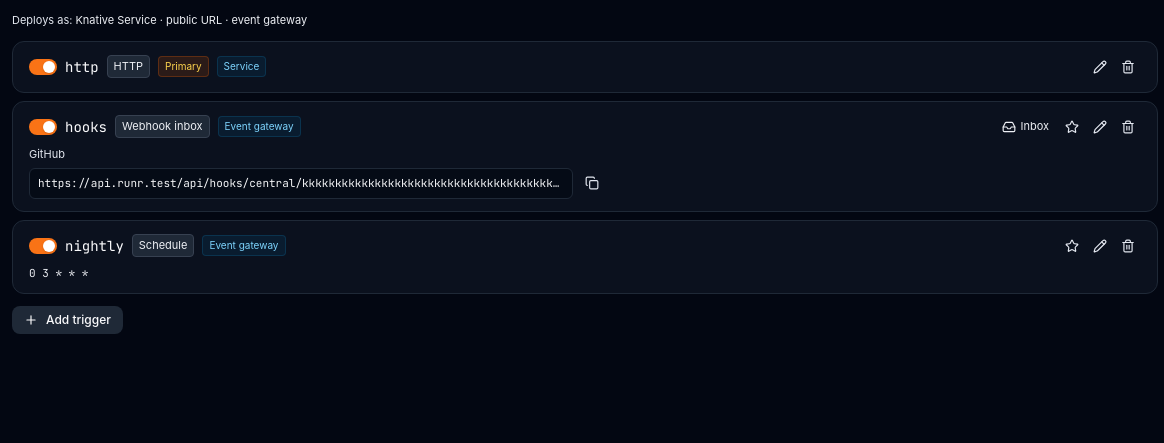
Test: TriggerList › says which replication slots RunR drops when a removal left some
Click the button named "Remove" in the row of "Schedule" at (1128, 246), box [1115, 232, 1141, 258]
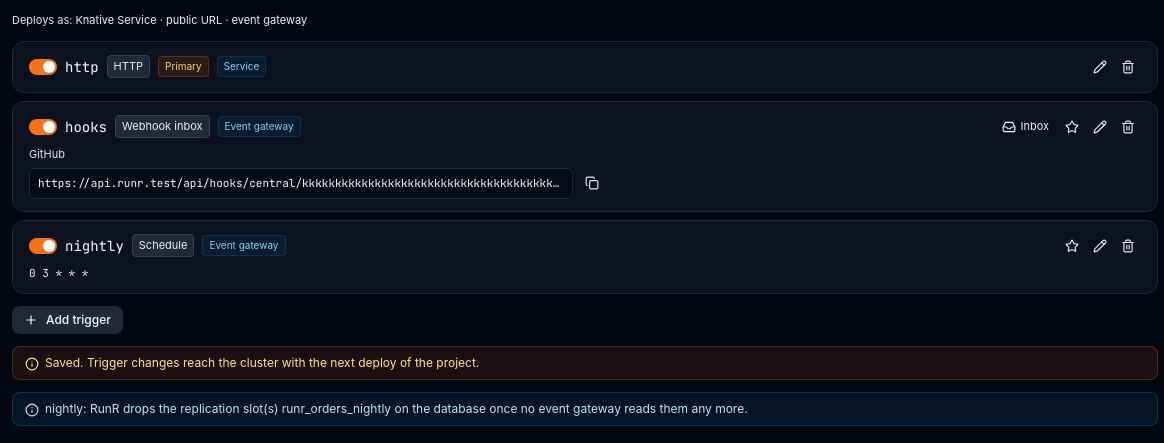
Now the number of elements with test id "trigger-cleanup" is 1, box [12, 392, 1158, 426]
Now the element with test id "trigger-cleanup" shows "nightly: RunR drops the replication slot(s) runr_orders_nightly", box [45, 401, 748, 416]
